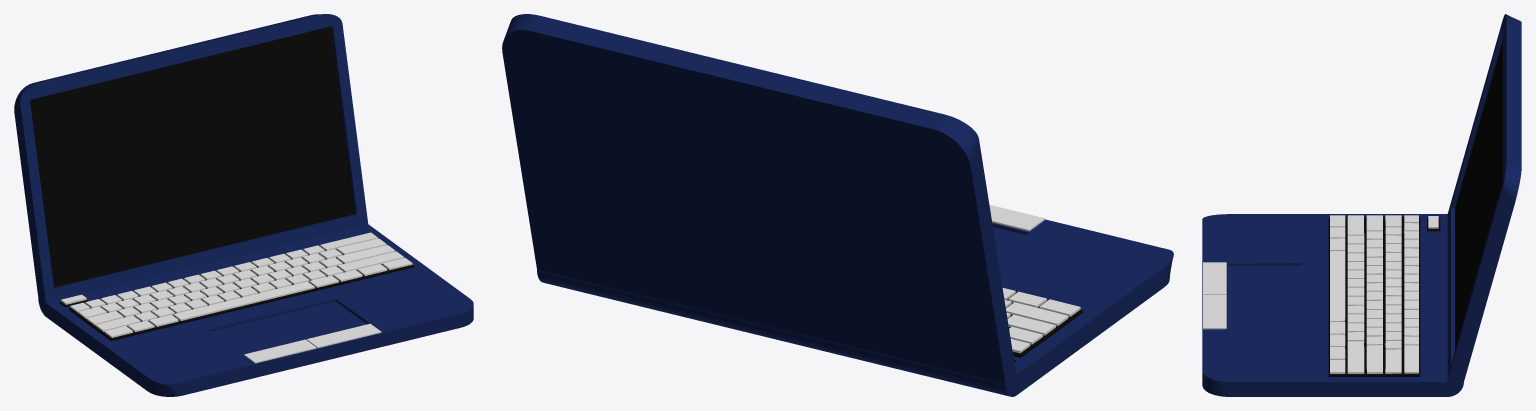
File: laptop.fbx
3 renders of one model, left to right at view 1: azimuth 30°, elevation 25°; view 2: azimuth 150°, elevation 25°; view 3: azimuth 270°, elevation 25°, orthographic. The views are drawn at different scales.
Visible parts, largest first — view 1: Cube; view 2: Cube; view 3: Cube.
Boxes of the visible parts, left/top/right/bottom form: Cube: left=14, top=14, right=473, bottom=396; Cube: left=502, top=14, right=1173, bottom=396; Cube: left=1202, top=14, right=1521, bottom=396.
Size of the model in its own units: 304 by 188 by 244.
